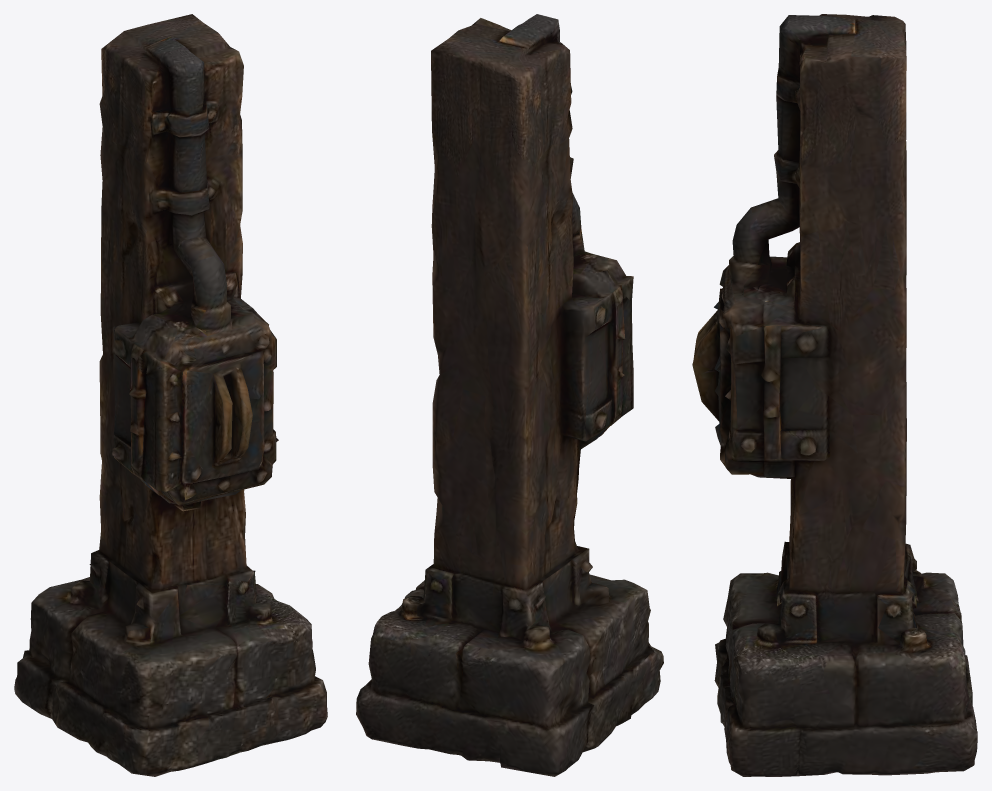
File: leverbox.glb
The picture shows the model from 3 angles, left to right: view 1: azimuth 30°, elevation 25°; view 2: azimuth 150°, elevation 25°; view 3: azimuth 270°, elevation 25°; orthographic projection. The views are drawn at different scales.
Visible parts, largest first — view 1: leverbox; view 2: leverbox; view 3: leverbox.
Boxes of the visible parts, x1,y1,x2,y2 form: leverbox: (14, 14, 327, 776); leverbox: (356, 14, 663, 776); leverbox: (692, 14, 977, 776).
Bounding box in the file's own units: 0.7087 × 2.2 × 0.809.
1 material, 1 textured.
